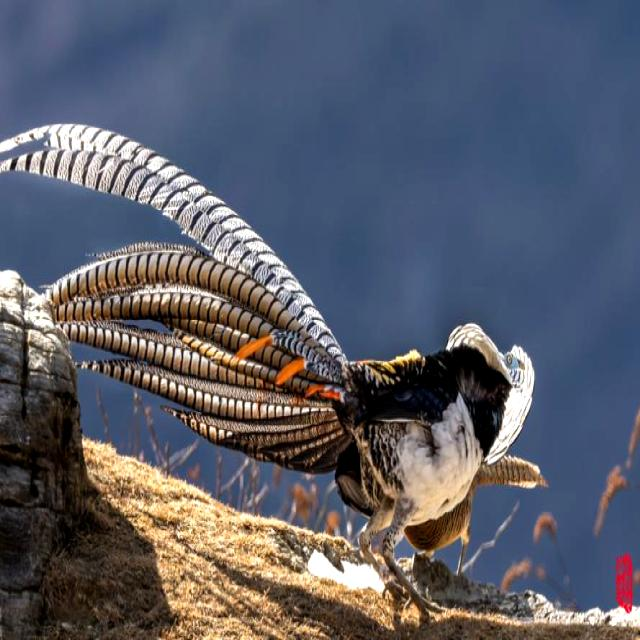Chrysolophus amherstiae: (0, 125, 350, 472)
